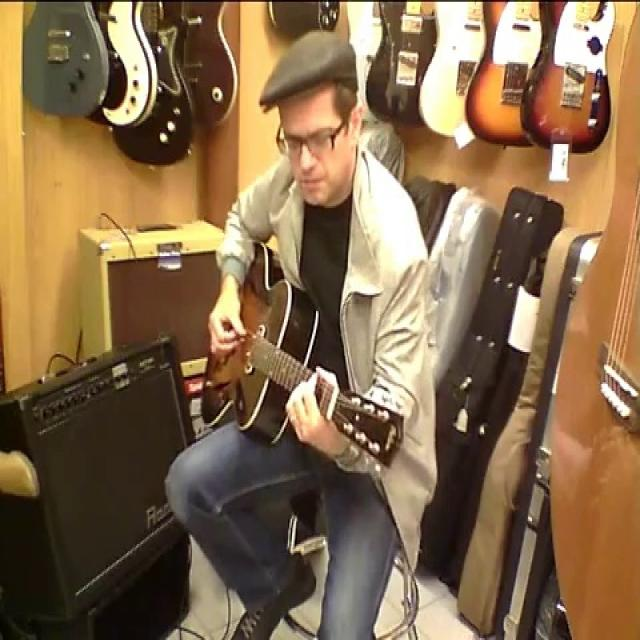Guitar: (193, 225, 424, 484)
